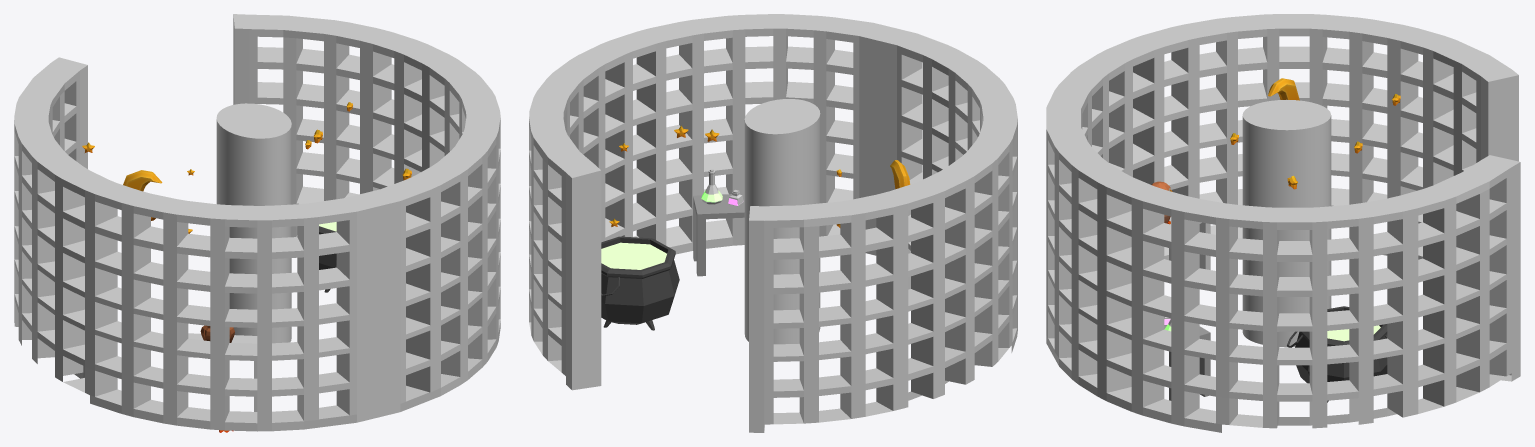
The model's file is Dromen_Envo.fbx.
3 views of the same model, side by side, from view 1: azimuth 30°, elevation 25°; view 2: azimuth 150°, elevation 25°; view 3: azimuth 270°, elevation 25° (orthographic).
Parts seen in each view (by area): view 1: area.002, Cylinder, moon; view 2: area.002, Cylinder, Sphere.003, Cube, Cylinder.001; view 3: area.002, Cylinder, Sphere.003, moon, Cube.
Part boxes in pixels (x1,y1,x2,y2): area.002: (14,14,500,431); Cylinder: (216,103,291,343); moon: (123,170,162,220); area.002: (529,14,1017,432); Cylinder: (744,99,820,344); Sphere.003: (601,236,679,330); Cube: (693,193,744,276); Cylinder.001: (601,242,666,269); area.002: (1046,14,1520,432); Cylinder: (1242,99,1331,347); Sphere.003: (1287,306,1387,402); moon: (1268,78,1299,100); Cube: (1164,325,1210,400).
Bounding box in the file's own units: 1021 × 505 × 982.
